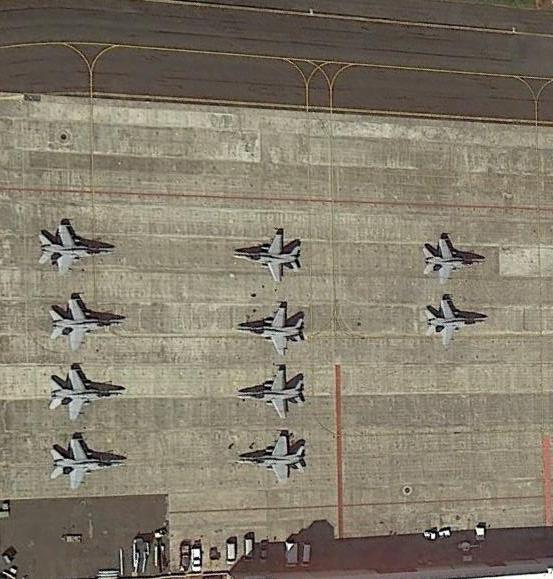F/A-18: (48, 432, 133, 492), (48, 364, 126, 423), (45, 291, 122, 349), (235, 430, 309, 488), (34, 221, 116, 273), (236, 304, 311, 355), (237, 366, 306, 420), (420, 231, 486, 286), (421, 292, 487, 346), (233, 231, 302, 281)
